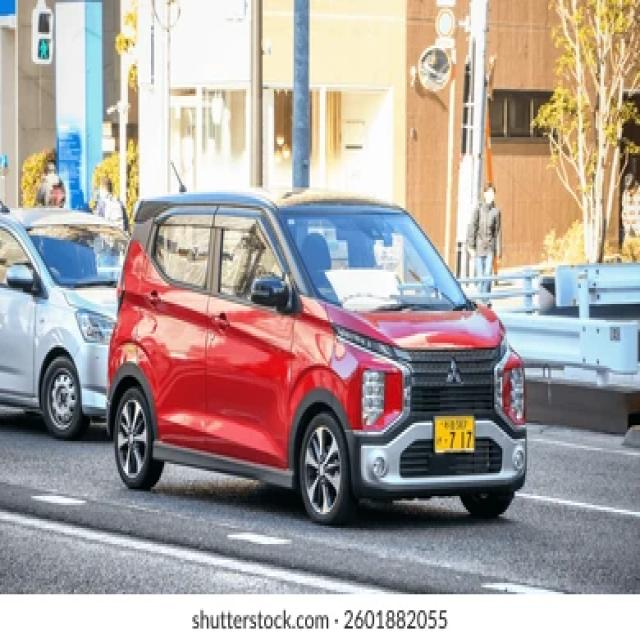mitsubishi: (444, 357, 468, 385)
